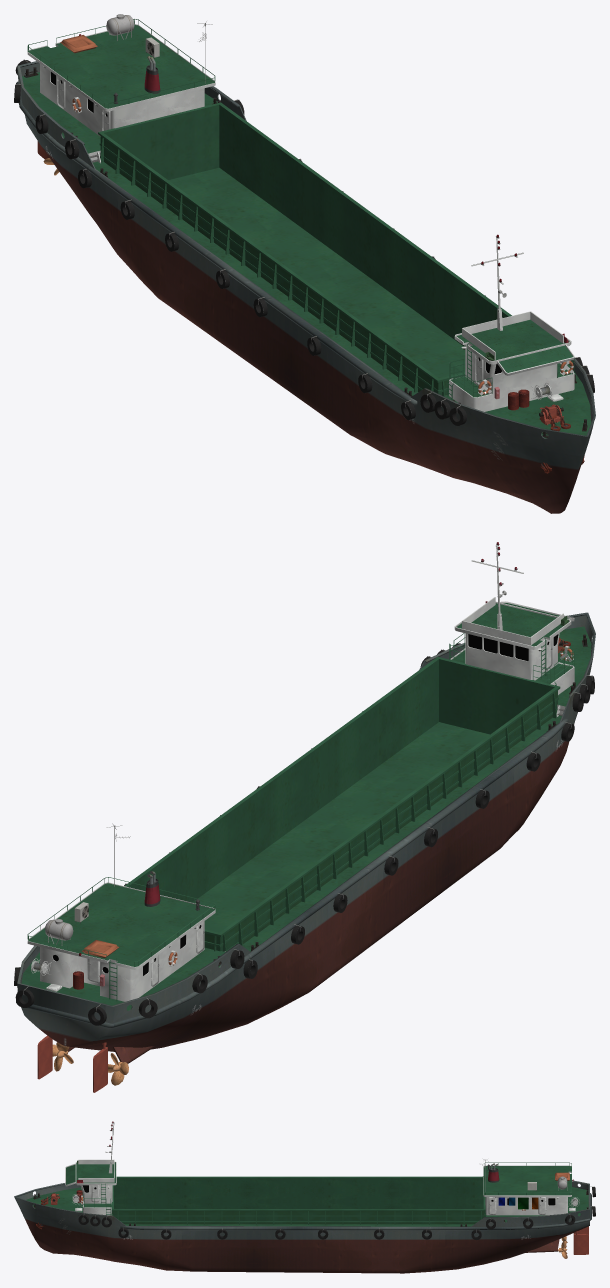
File: xa lan.glb
3 renders of one model, top to bottom at view 1: azimuth 30°, elevation 25°; view 2: azimuth 150°, elevation 25°; view 3: azimuth 270°, elevation 25°, orthographic. The views are drawn at different scales.
Visible parts, largest first — view 1: BezierCurve, Cube, Cube.003, Cube.002, Cylinder.018, Cube.001, Cube.012, Cube.014, Cylinder.008, Cube.013; view 2: Cube, BezierCurve, Cube.003, Cube.002, Cylinder.018, Cube.001, Cylinder.003, Cube.009, Cube.014, Cylinder.008, Cube.013; view 3: BezierCurve, Cube, Cube.003, Cube.002, Cylinder.018, Cube.013, Cube.001, Cube.009, Cube.014, metal_4, Cylinder.003, Cylinder.008 (+1 smaller).
Boxes of the visible parts, box(x1,y1,x2,y2) form: BezierCurve: box(16, 61, 595, 513); Cube: box(98, 102, 511, 395); Cube.003: box(27, 24, 215, 136); Cube.002: box(449, 319, 574, 411); Cylinder.018: box(14, 59, 594, 425); Cube.001: box(100, 137, 444, 396); Cube.012: box(497, 344, 574, 375); Cube.014: box(462, 311, 563, 359); Cylinder.008: box(27, 19, 574, 397); Cube.013: box(57, 76, 483, 384); Cube: box(124, 656, 560, 951); BezierCurve: box(16, 612, 595, 1051); Cube.003: box(27, 882, 215, 1001); Cube.002: box(450, 601, 574, 694); Cylinder.018: box(14, 643, 594, 1025); Cube.001: box(214, 693, 556, 951); Cylinder.003: box(52, 1042, 155, 1085); Cube.009: box(37, 1035, 107, 1092); Cube.014: box(462, 597, 563, 645); Cylinder.008: box(27, 633, 574, 966); Cube.013: box(87, 638, 552, 986); BezierCurve: box(14, 1176, 591, 1273); Cube: box(111, 1176, 485, 1224); Cube.003: box(483, 1165, 571, 1215); Cube.002: box(75, 1161, 116, 1215); Cylinder.018: box(78, 1186, 595, 1240); Cube.013: box(91, 1185, 546, 1214); Cube.001: box(111, 1211, 485, 1224); Cube.009: box(573, 1226, 588, 1254); Cube.014: box(78, 1159, 114, 1182); metal_4: box(493, 1197, 541, 1209); Cylinder.003: box(524, 1236, 567, 1258); Cylinder.008: box(83, 1162, 571, 1207).
Size of the model in its own units: 10.6 by 13.86 by 55.01.
1 material, 1 textured.
